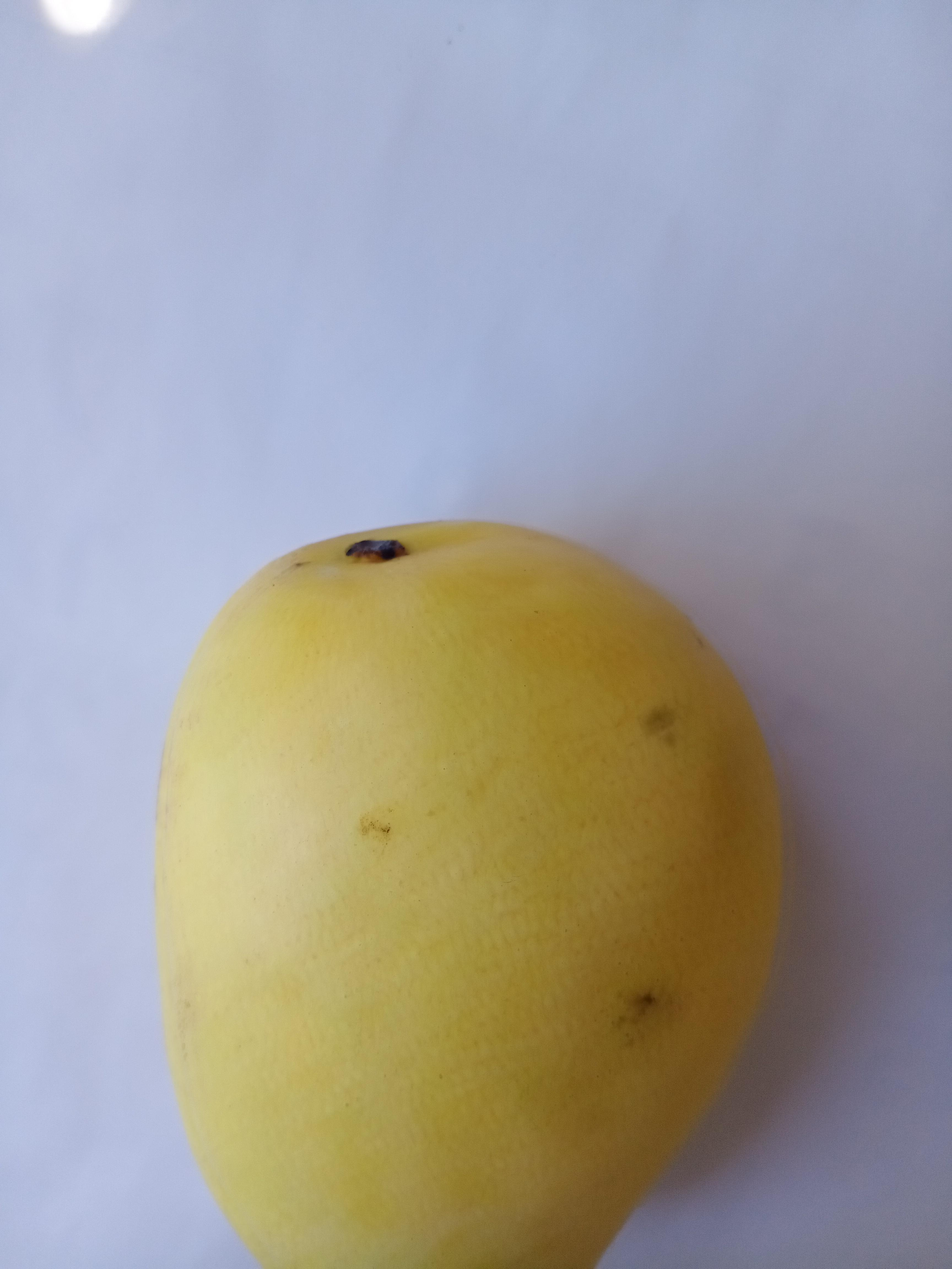Mango Ripe: (104, 501, 818, 1269)
